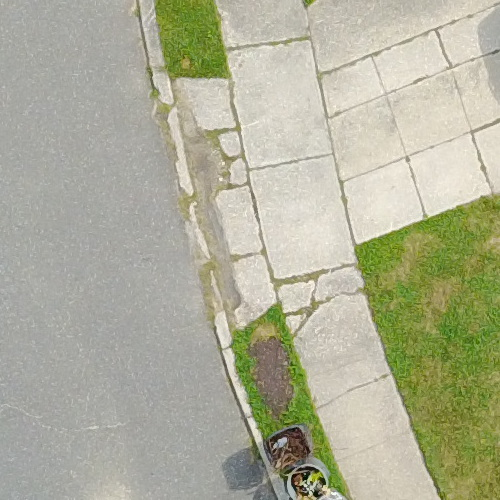trash bin: (252, 412, 318, 473), (283, 461, 343, 500)
